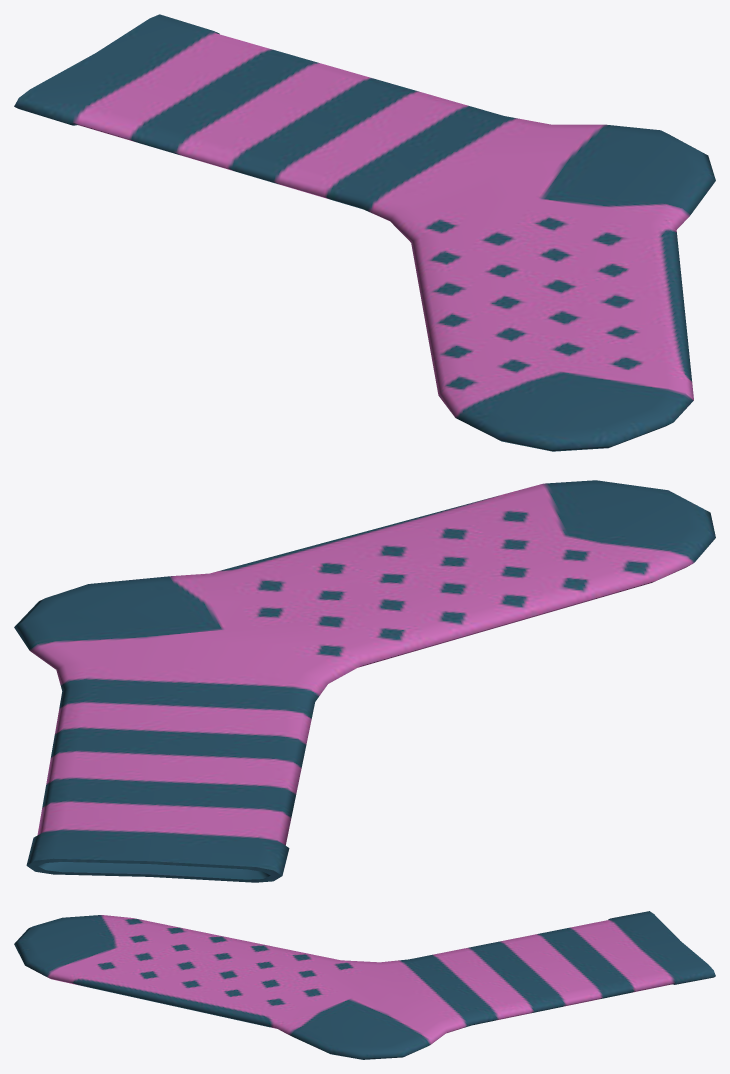
The model's file is sweethome3d-scopia-socket.glb.
3 renders of one model, top to bottom at view 1: azimuth 30°, elevation 25°; view 2: azimuth 150°, elevation 25°; view 3: azimuth 270°, elevation 25°, orthographic. The views are drawn at different scales.
Visible parts, largest first — view 1: chaussette; view 2: chaussette; view 3: chaussette.
Boxes of the visible parts, x1,y1,x2,y2 form: chaussette: (14, 14, 715, 451); chaussette: (14, 480, 715, 882); chaussette: (14, 911, 715, 1059).
Size of the model in its own units: 17.21 by 0.7014 by 34.93.
Materials: 3 (3 with a texture image).
